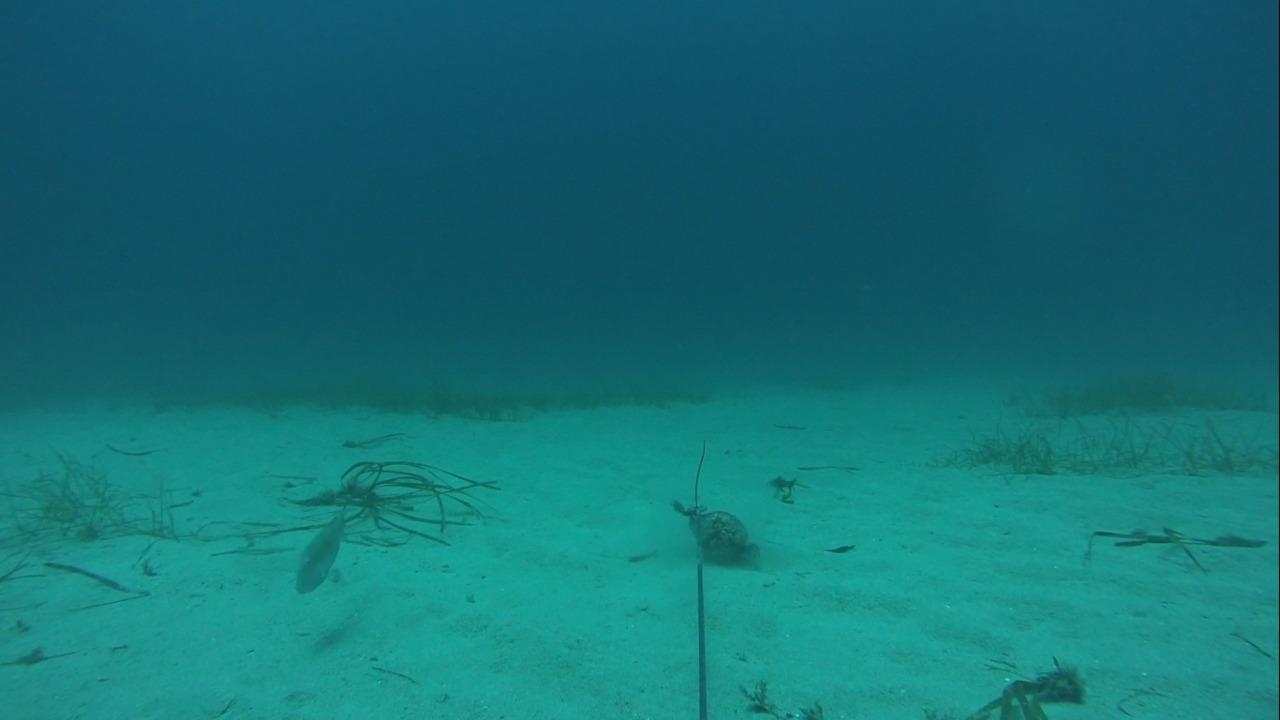raor: (290, 499, 350, 598)
